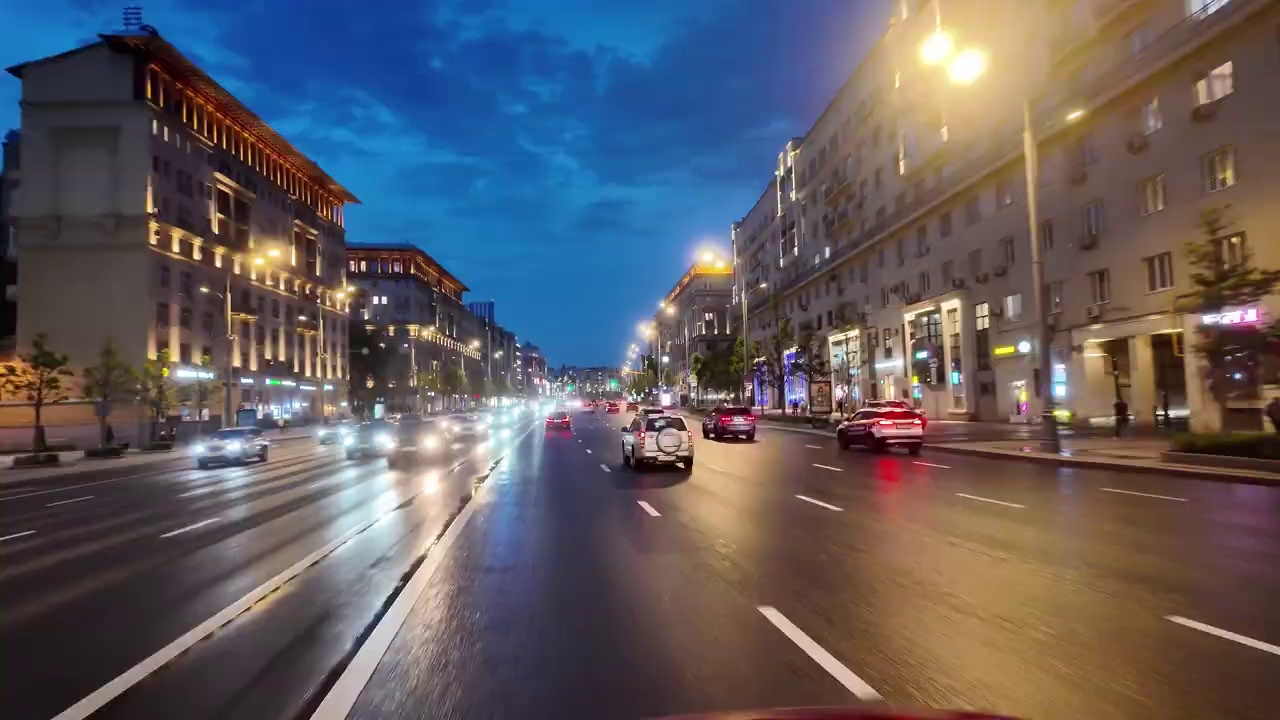acesa: (909, 24, 995, 93), (696, 248, 732, 278), (639, 320, 659, 343)
